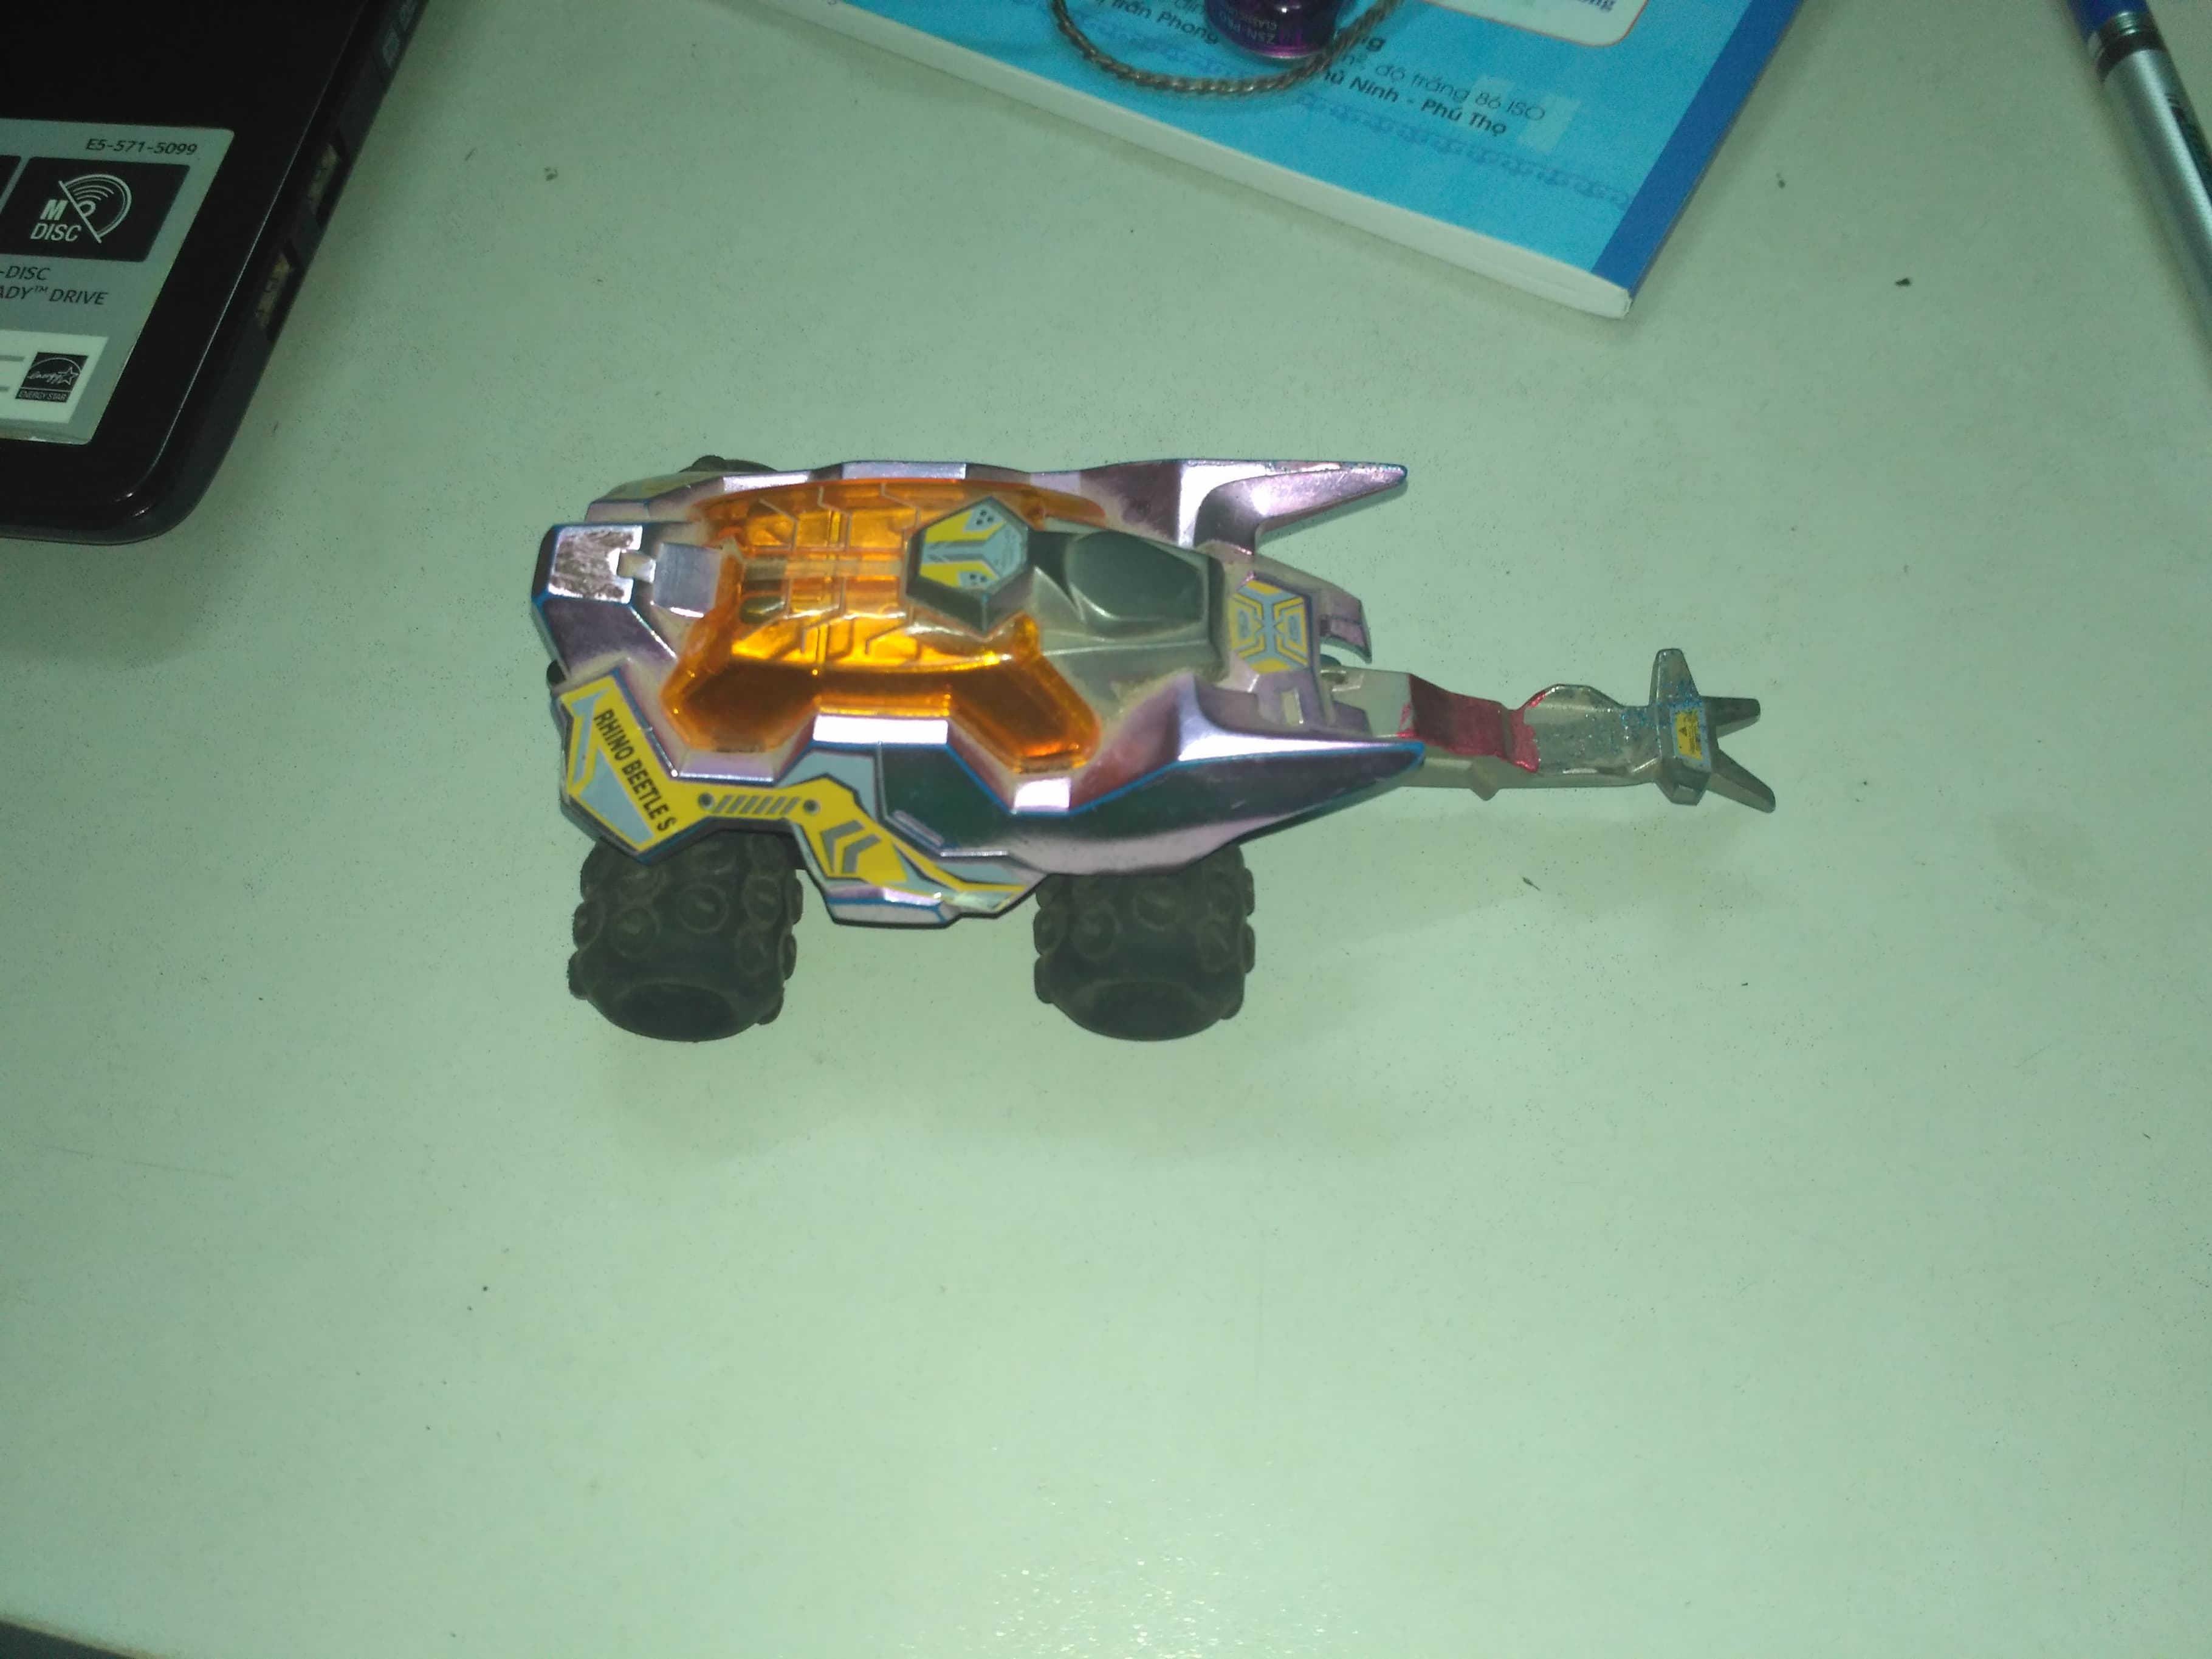rhino: (523, 446, 1791, 1044)
